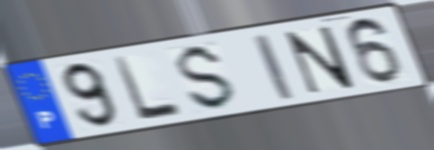6: (346, 14, 409, 90)
9: (60, 61, 121, 131)
I: (249, 31, 298, 103)
L: (110, 54, 186, 124)
N: (282, 24, 358, 97)
S: (175, 41, 239, 113)
